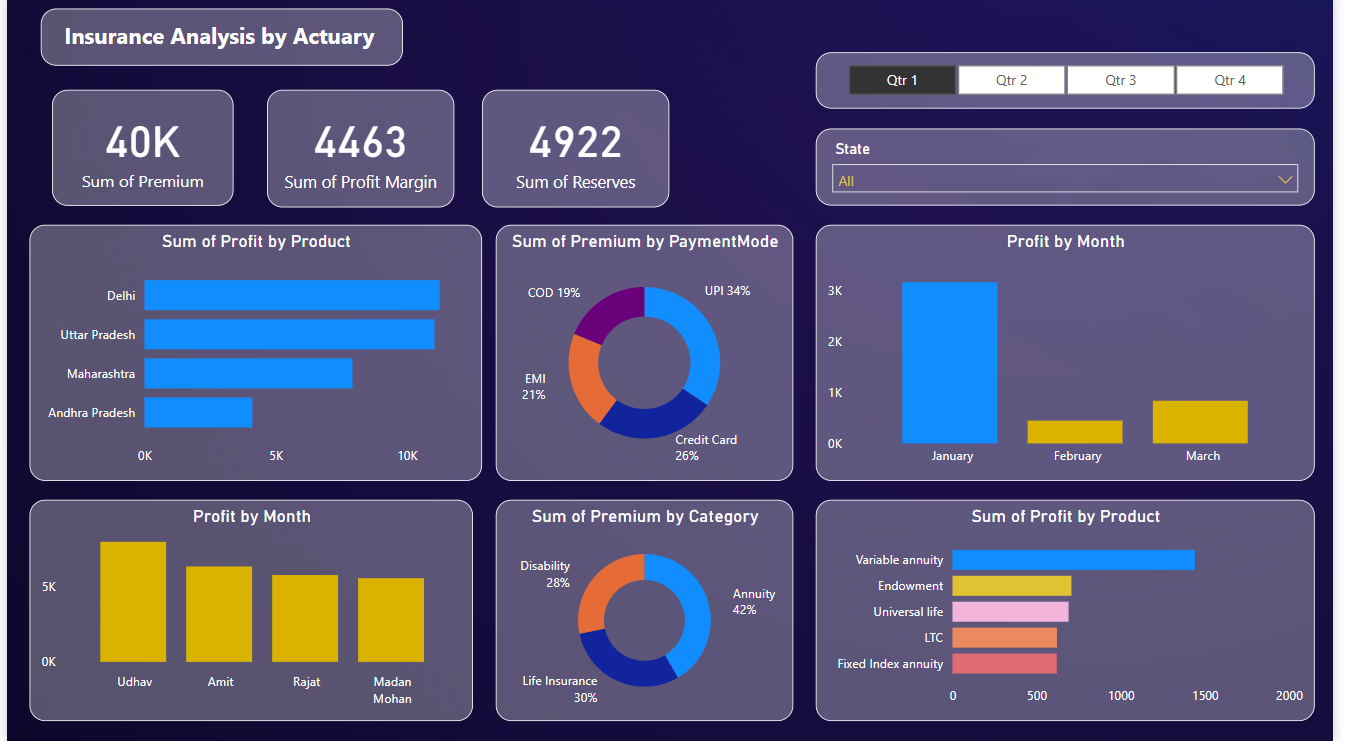

Layout of this report page (visuals, bound fields, positions):
{"tool":"powerbi","page":{"name":"Page 1","canvas":[1280,720],"ordinal":0},"visuals":[{"type":"textbox","box":[32.6,12.1,349.9,55.5],"z":0},{"type":"columnChart","title":"Profit by Month","fields":{"Category":["insurance_info.Issue Date.Variation.Date Hierarchy.Month"],"Y":["insurance_details.Profit Margin"]},"box":[780.6,220.8,481.4,247.3],"z":1000},{"type":"barChart","title":"Sum of Profit by Product","fields":{"Y":["insurance_details.Profit Margin"],"Category":["insurance_details.Sub-Category"]},"box":[780.6,486.2,481.4,213.5],"z":2000},{"type":"donutChart","fields":{"Category":["insurance_details.Category"],"Y":["insurance_details.Premium"]},"box":[471.7,486.2,287.1,213.5],"z":3000},{"type":"donutChart","fields":{"Category":["insurance_details.PaymentMode"],"Y":["insurance_details.Premium"]},"box":[471.7,220.8,287.1,247.3],"z":4000},{"type":"card","fields":{"Values":["insurance_details.Premium"]},"box":[43.4,90.5,174.9,112.2],"z":5000},{"type":"card","fields":{"Values":["insurance_details.Profit Margin"]},"box":[250.9,90.5,181,113.4],"z":6000},{"type":"card","fields":{"Values":["insurance_details.Reserves"]},"box":[458.4,90.5,181,113.4],"z":7000},{"type":"barChart","title":"Sum of Profit by Product","fields":{"Y":["insurance_details.Premium"],"Category":["insurance_info.State"]},"box":[21.7,220.8,436.7,247.3],"z":8000},{"type":"columnChart","title":"Profit by Month","fields":{"Category":["insurance_info.Customer Name"],"Y":["insurance_details.Premium"]},"box":[21.7,486.2,428.3,213.5],"z":9000},{"type":"slicer","fields":{"Values":["insurance_info.Issue Date.Variation.Date Hierarchy.Quarter"]},"box":[780.6,54.3,481.4,54.3],"z":10000},{"type":"slicer","fields":{"Values":["insurance_info.State"]},"box":[780.6,127.9,481.4,74.8],"z":10001}]}

Visuals, with their boxes in screenshot pixels (x1, y1, x2, y2), scaled from the page's 1280x720 canvas onto the 1346x741 screenshot:
textbox: [34, 12, 402, 70]
"Profit by Month" columnChart: [821, 227, 1327, 482]
"Sum of Profit by Product" barChart: [821, 500, 1327, 720]
donutChart - insurance_details.Category x insurance_details.Premium: [496, 500, 798, 720]
donutChart - insurance_details.PaymentMode x insurance_details.Premium: [496, 227, 798, 482]
card - insurance_details.Premium: [46, 93, 230, 209]
card - insurance_details.Profit Margin: [264, 93, 454, 210]
card - insurance_details.Reserves: [482, 93, 672, 210]
"Sum of Profit by Product" barChart: [23, 227, 482, 482]
"Profit by Month" columnChart: [23, 500, 473, 720]
slicer - insurance_info.Issue Date.Variation.Date Hierarchy.Quarter: [821, 56, 1327, 112]
slicer - insurance_info.State: [821, 132, 1327, 209]
